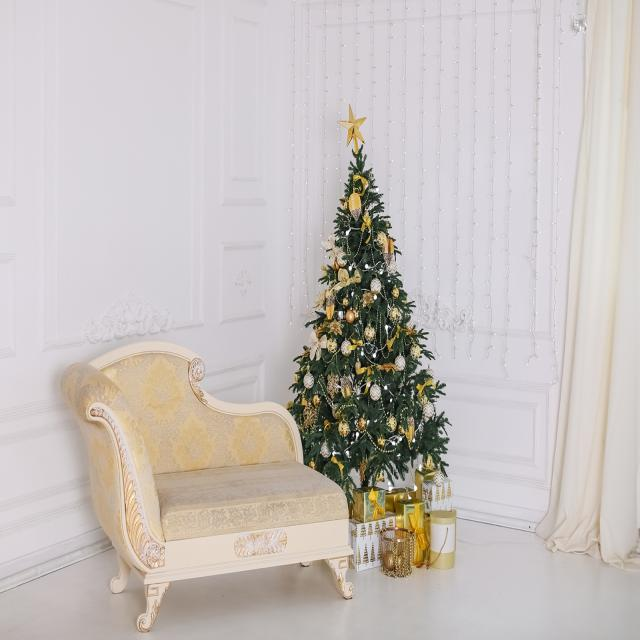Christmas-tree: (307, 152, 436, 460)
